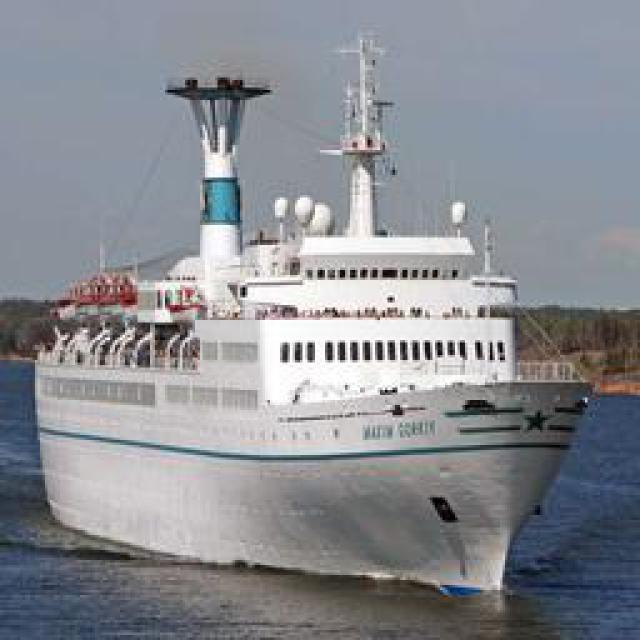Ship: (37, 162, 590, 602)
